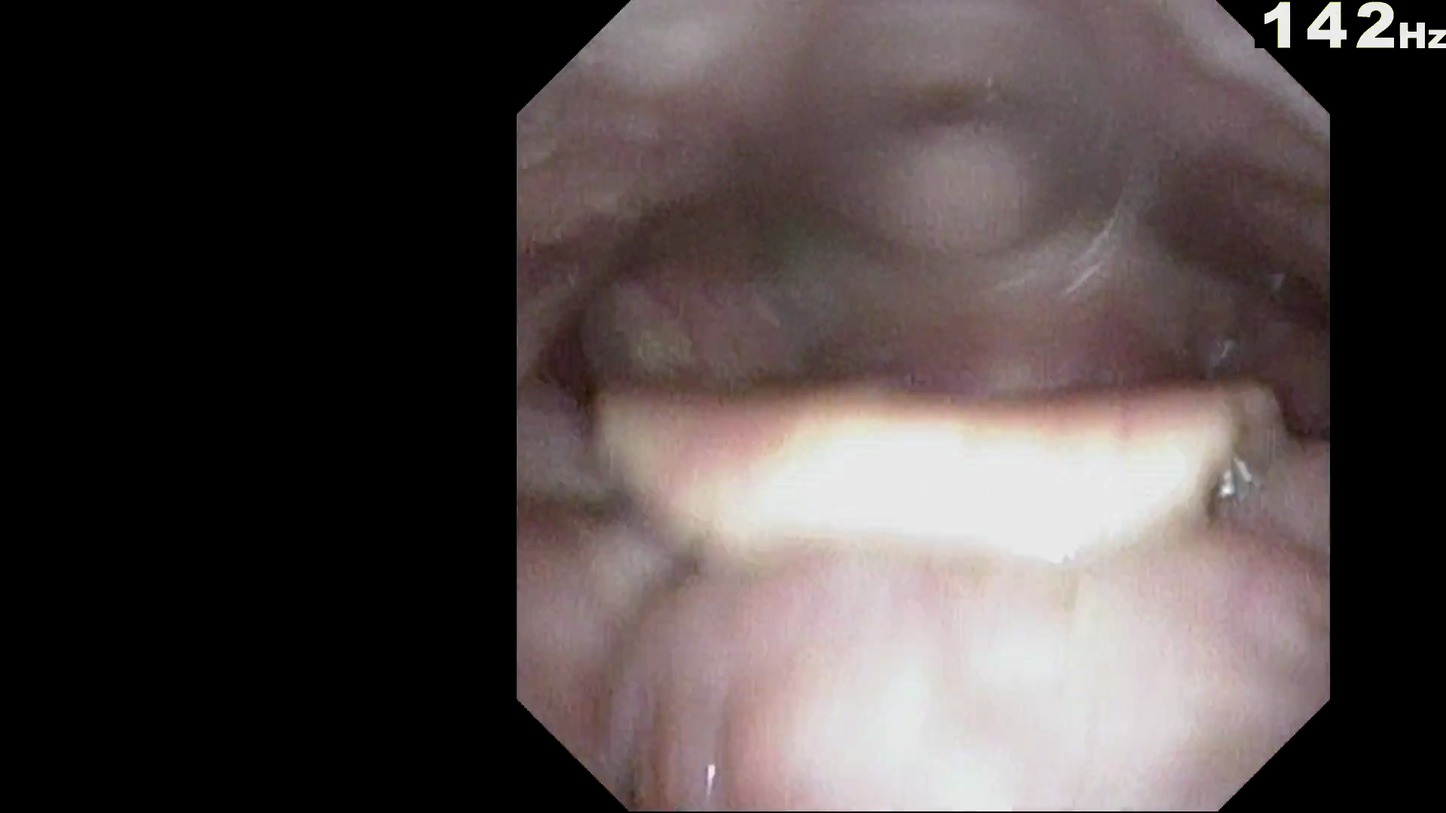epiglottis: (645, 378, 1260, 603)
